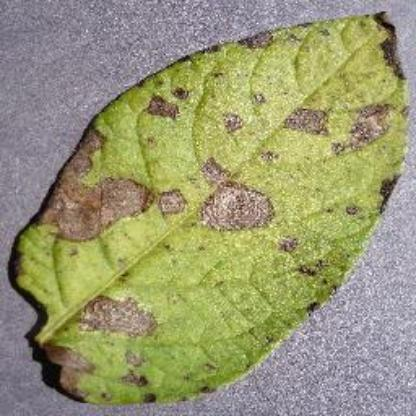Early-Blight: (9, 1, 406, 406)
